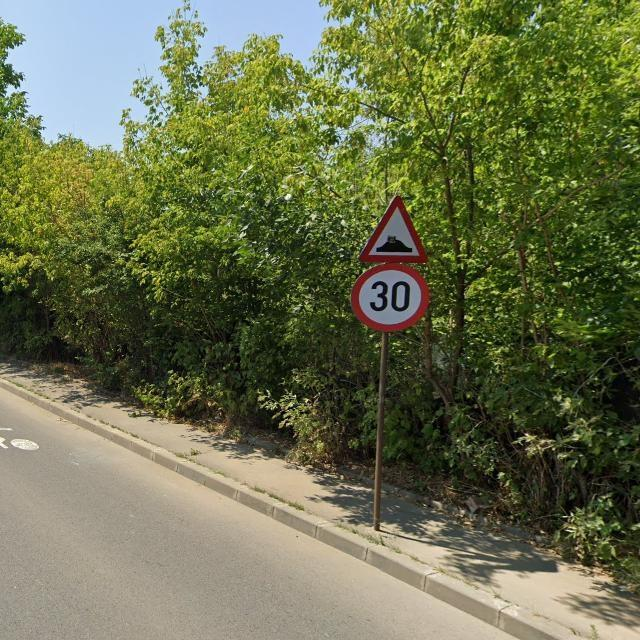forb_speed_over_30: (352, 263, 429, 331)
